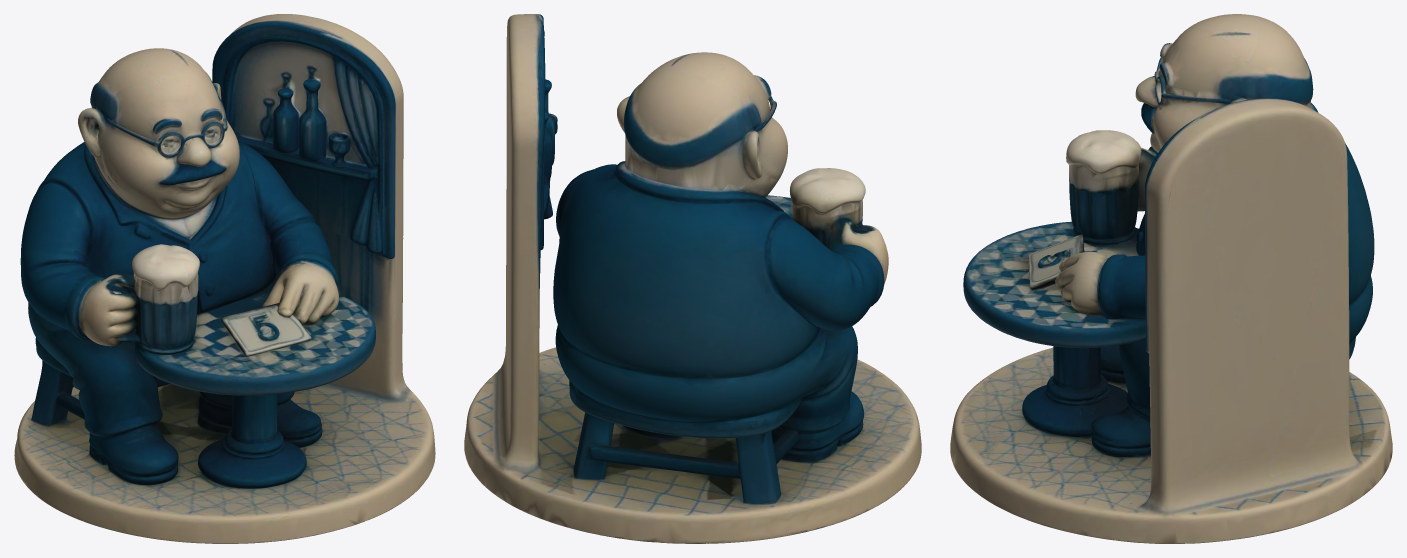
File: compressed_1763391167896_bob.glb
3 renders of one model, left to right at view 1: azimuth 30°, elevation 25°; view 2: azimuth 150°, elevation 25°; view 3: azimuth 270°, elevation 25°, orthographic. The views are drawn at different scales.
Visible parts, largest first — view 1: material; view 2: material; view 3: material.
Boxes of the visible parts, x1,y1,x2,y2 form: material: (14, 14, 435, 543); material: (464, 14, 921, 543); material: (950, 14, 1392, 543).
Bounding box in the file's own units: 0.8512 × 0.8548 × 0.8375.
1 material, 1 textured.
